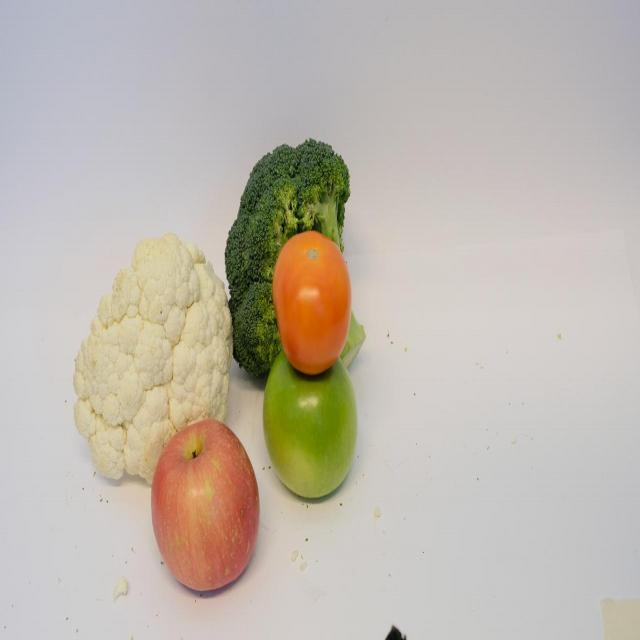apple: (149, 411, 269, 591), (256, 355, 367, 499)
broccoli: (219, 120, 376, 385)
cauliflower: (65, 229, 229, 473)
tomato: (273, 219, 354, 384)
